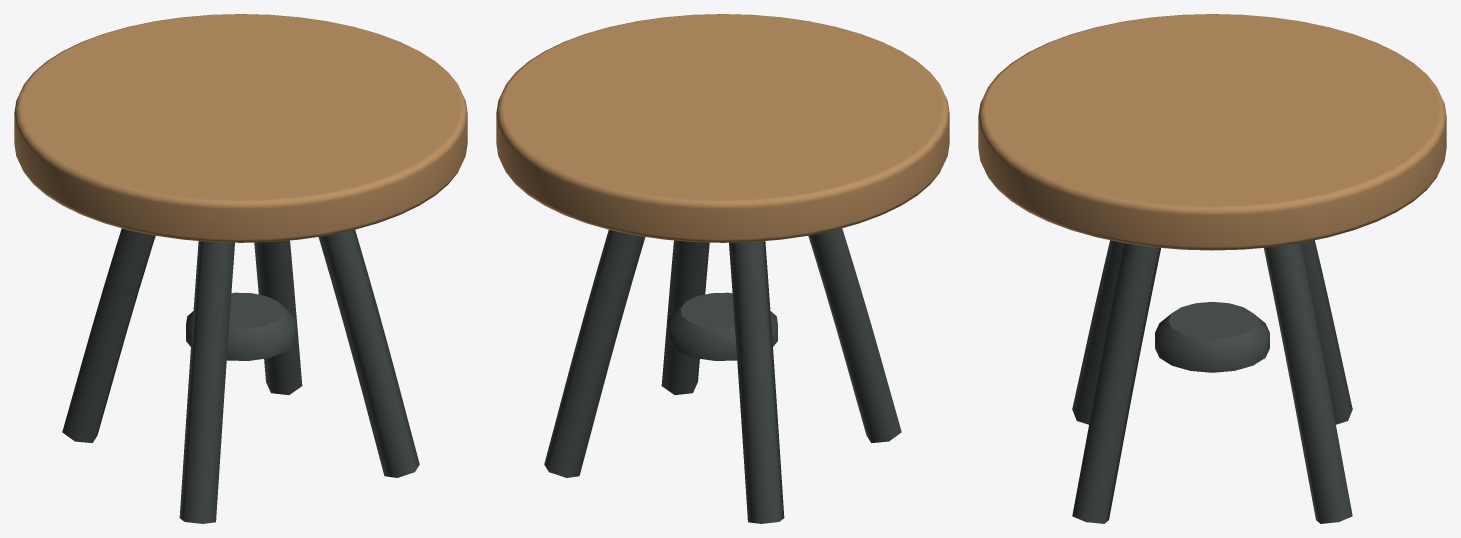
The model's file is garden.table-new.glb.
The picture shows the model from 3 angles, left to right: view 1: azimuth 30°, elevation 25°; view 2: azimuth 150°, elevation 25°; view 3: azimuth 270°, elevation 25°; orthographic projection. The views are drawn at different scales.
Visible parts, largest first — view 1: Round garden tabletop; view 2: Round garden tabletop; view 3: Round garden tabletop.
Part boxes in pixels (bbox=[...]): Round garden tabletop: bbox=[14, 14, 467, 523]; Round garden tabletop: bbox=[496, 14, 949, 523]; Round garden tabletop: bbox=[978, 14, 1446, 523].
Bounding box in the file's own units: 1.06 × 0.8996 × 1.06.
